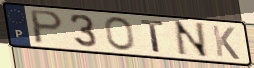3: (69, 13, 100, 49)
K: (210, 24, 242, 62)
N: (172, 20, 212, 59)
O: (103, 15, 137, 52)
P: (29, 8, 66, 46)
T: (139, 19, 167, 55)
